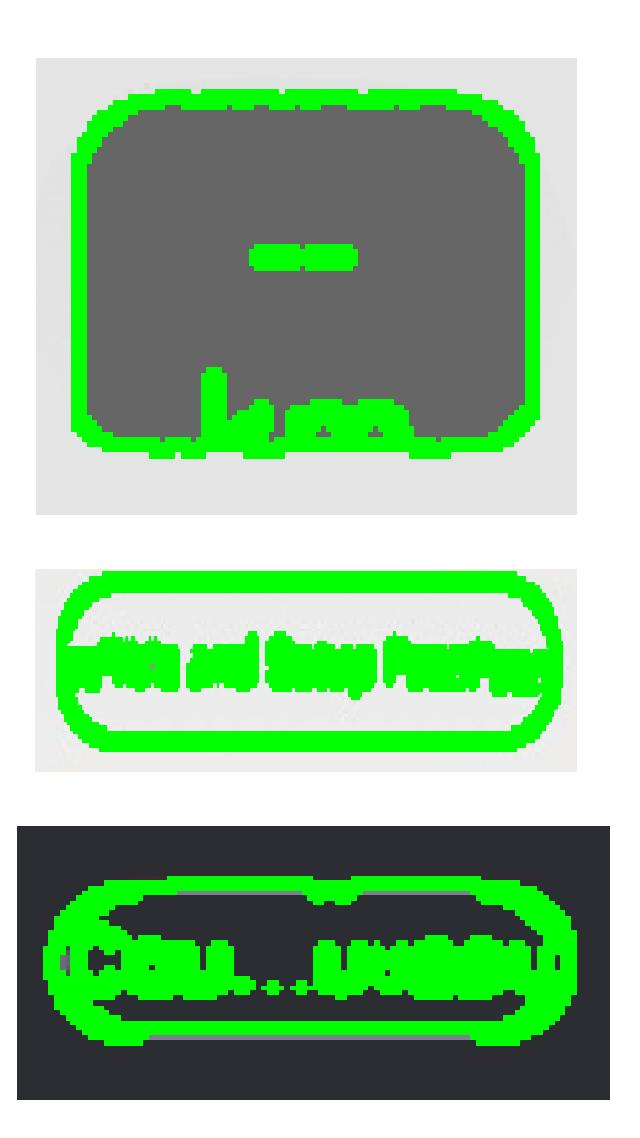WS1: (491, 534, 592, 767), (18, 861, 127, 1062), (131, 348, 272, 492), (18, 557, 114, 766), (298, 368, 462, 490), (494, 864, 592, 1058)
